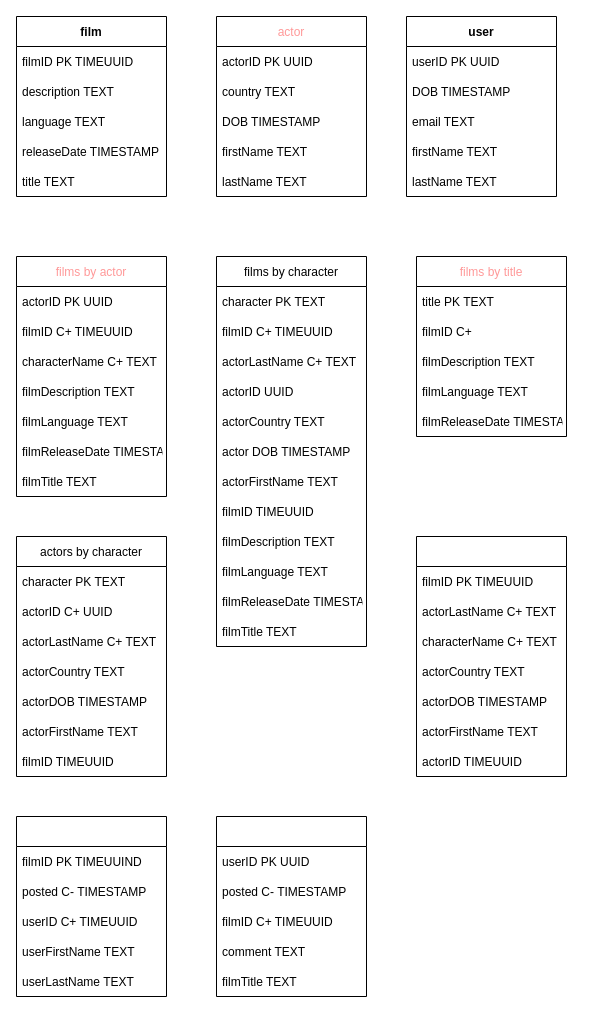
This 599x1013 diagram has some shape labels left out. Here are the shapes that lost their labels. From the top down, the box of each, then its label:
(416, 536, 566, 776): actors by film
(16, 816, 166, 996): comments by film
(216, 816, 366, 996): comments by user
